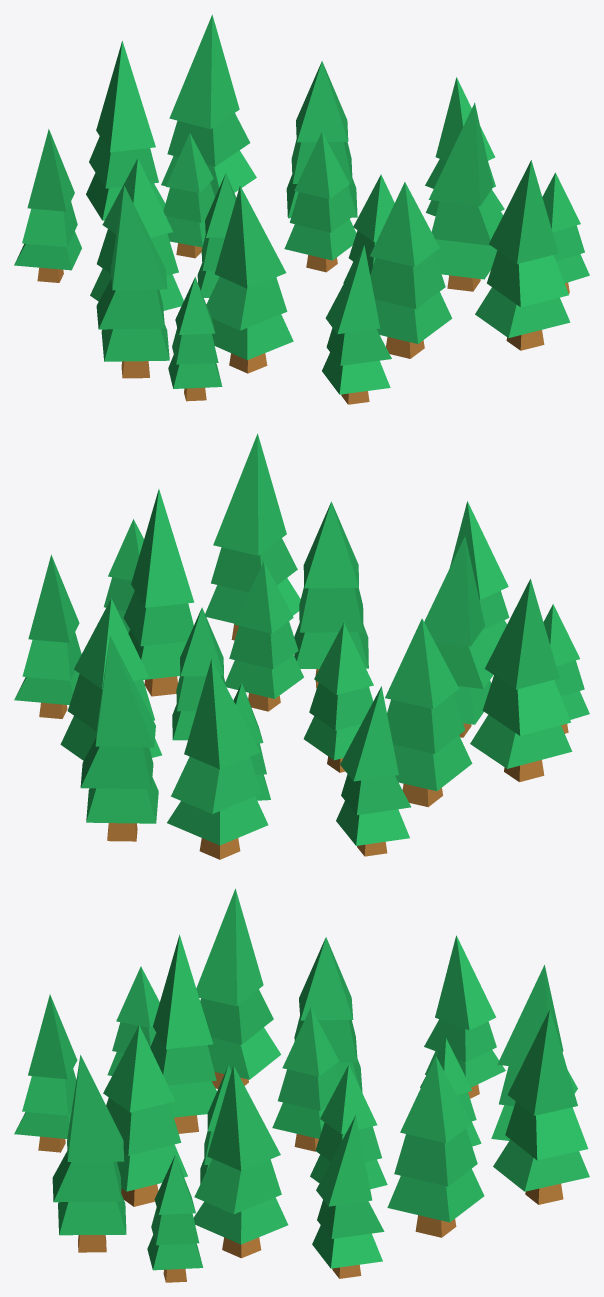
The model's file is nature_taigaFlat.fbx.
3 views of the same model, one above another, from view 1: azimuth 30°, elevation 25°; view 2: azimuth 150°, elevation 25°; view 3: azimuth 270°, elevation 25° (orthographic). The views are drawn at different scales.
Visible parts, largest first — view 1: Taiga; view 2: Taiga; view 3: Taiga.
Boxes of the visible parts, x1,y1,x2,y2 form: Taiga: [14, 14, 589, 404]; Taiga: [14, 433, 589, 859]; Taiga: [14, 888, 589, 1282].
Bounding box in the file's own units: 166 × 65 × 176.
